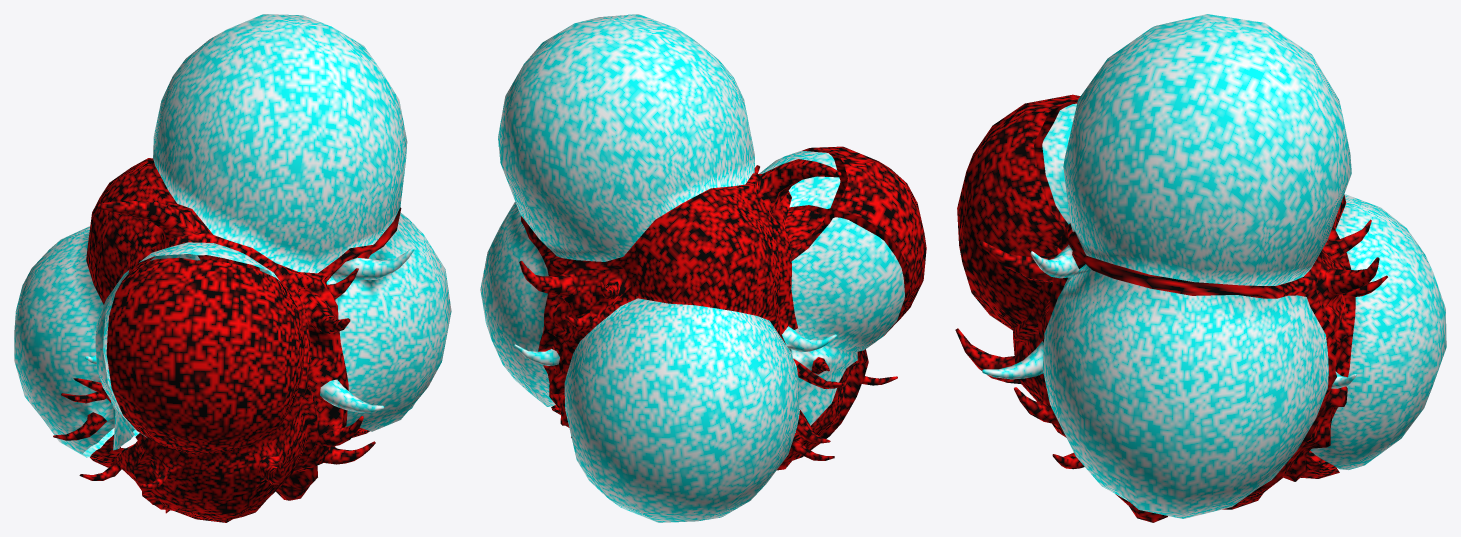
Rendered from SM_Tentacle_Egg_KMH.fbx.
3 renders of one model, left to right at view 1: azimuth 30°, elevation 25°; view 2: azimuth 150°, elevation 25°; view 3: azimuth 270°, elevation 25°, orthographic. The views are drawn at different scales.
Visible parts, largest first — view 1: SM_Tentacle_Egg_KMH; view 2: SM_Tentacle_Egg_KMH; view 3: SM_Tentacle_Egg_KMH.
Boxes of the visible parts, x1=… form: SM_Tentacle_Egg_KMH: x1=14, y1=14, x2=451, y2=522; SM_Tentacle_Egg_KMH: x1=480, y1=14, x2=926, y2=522; SM_Tentacle_Egg_KMH: x1=955, y1=14, x2=1446, y2=522.
Bounding box in the file's own units: 94.37 × 110 × 95.35.
